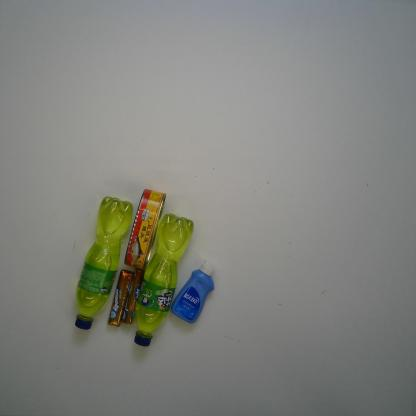Candy: (107, 269, 132, 327), (121, 269, 144, 325)
Canned Food: (124, 188, 166, 272)
Drink: (134, 212, 194, 348), (74, 196, 134, 331)
Personal Hygiene: (171, 258, 214, 324)
